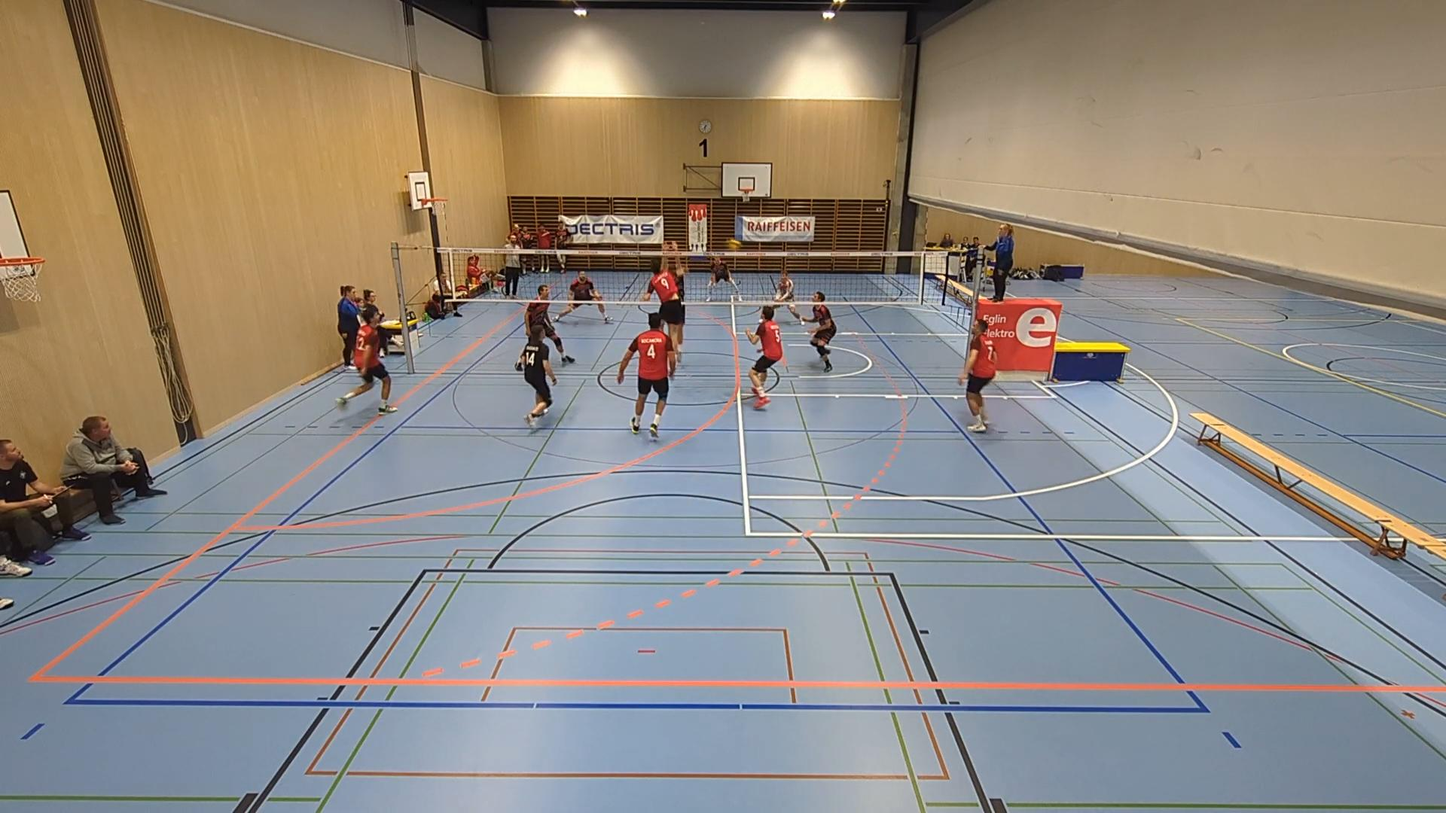attacco: (641, 254, 695, 352)
muro: (660, 235, 691, 355)
